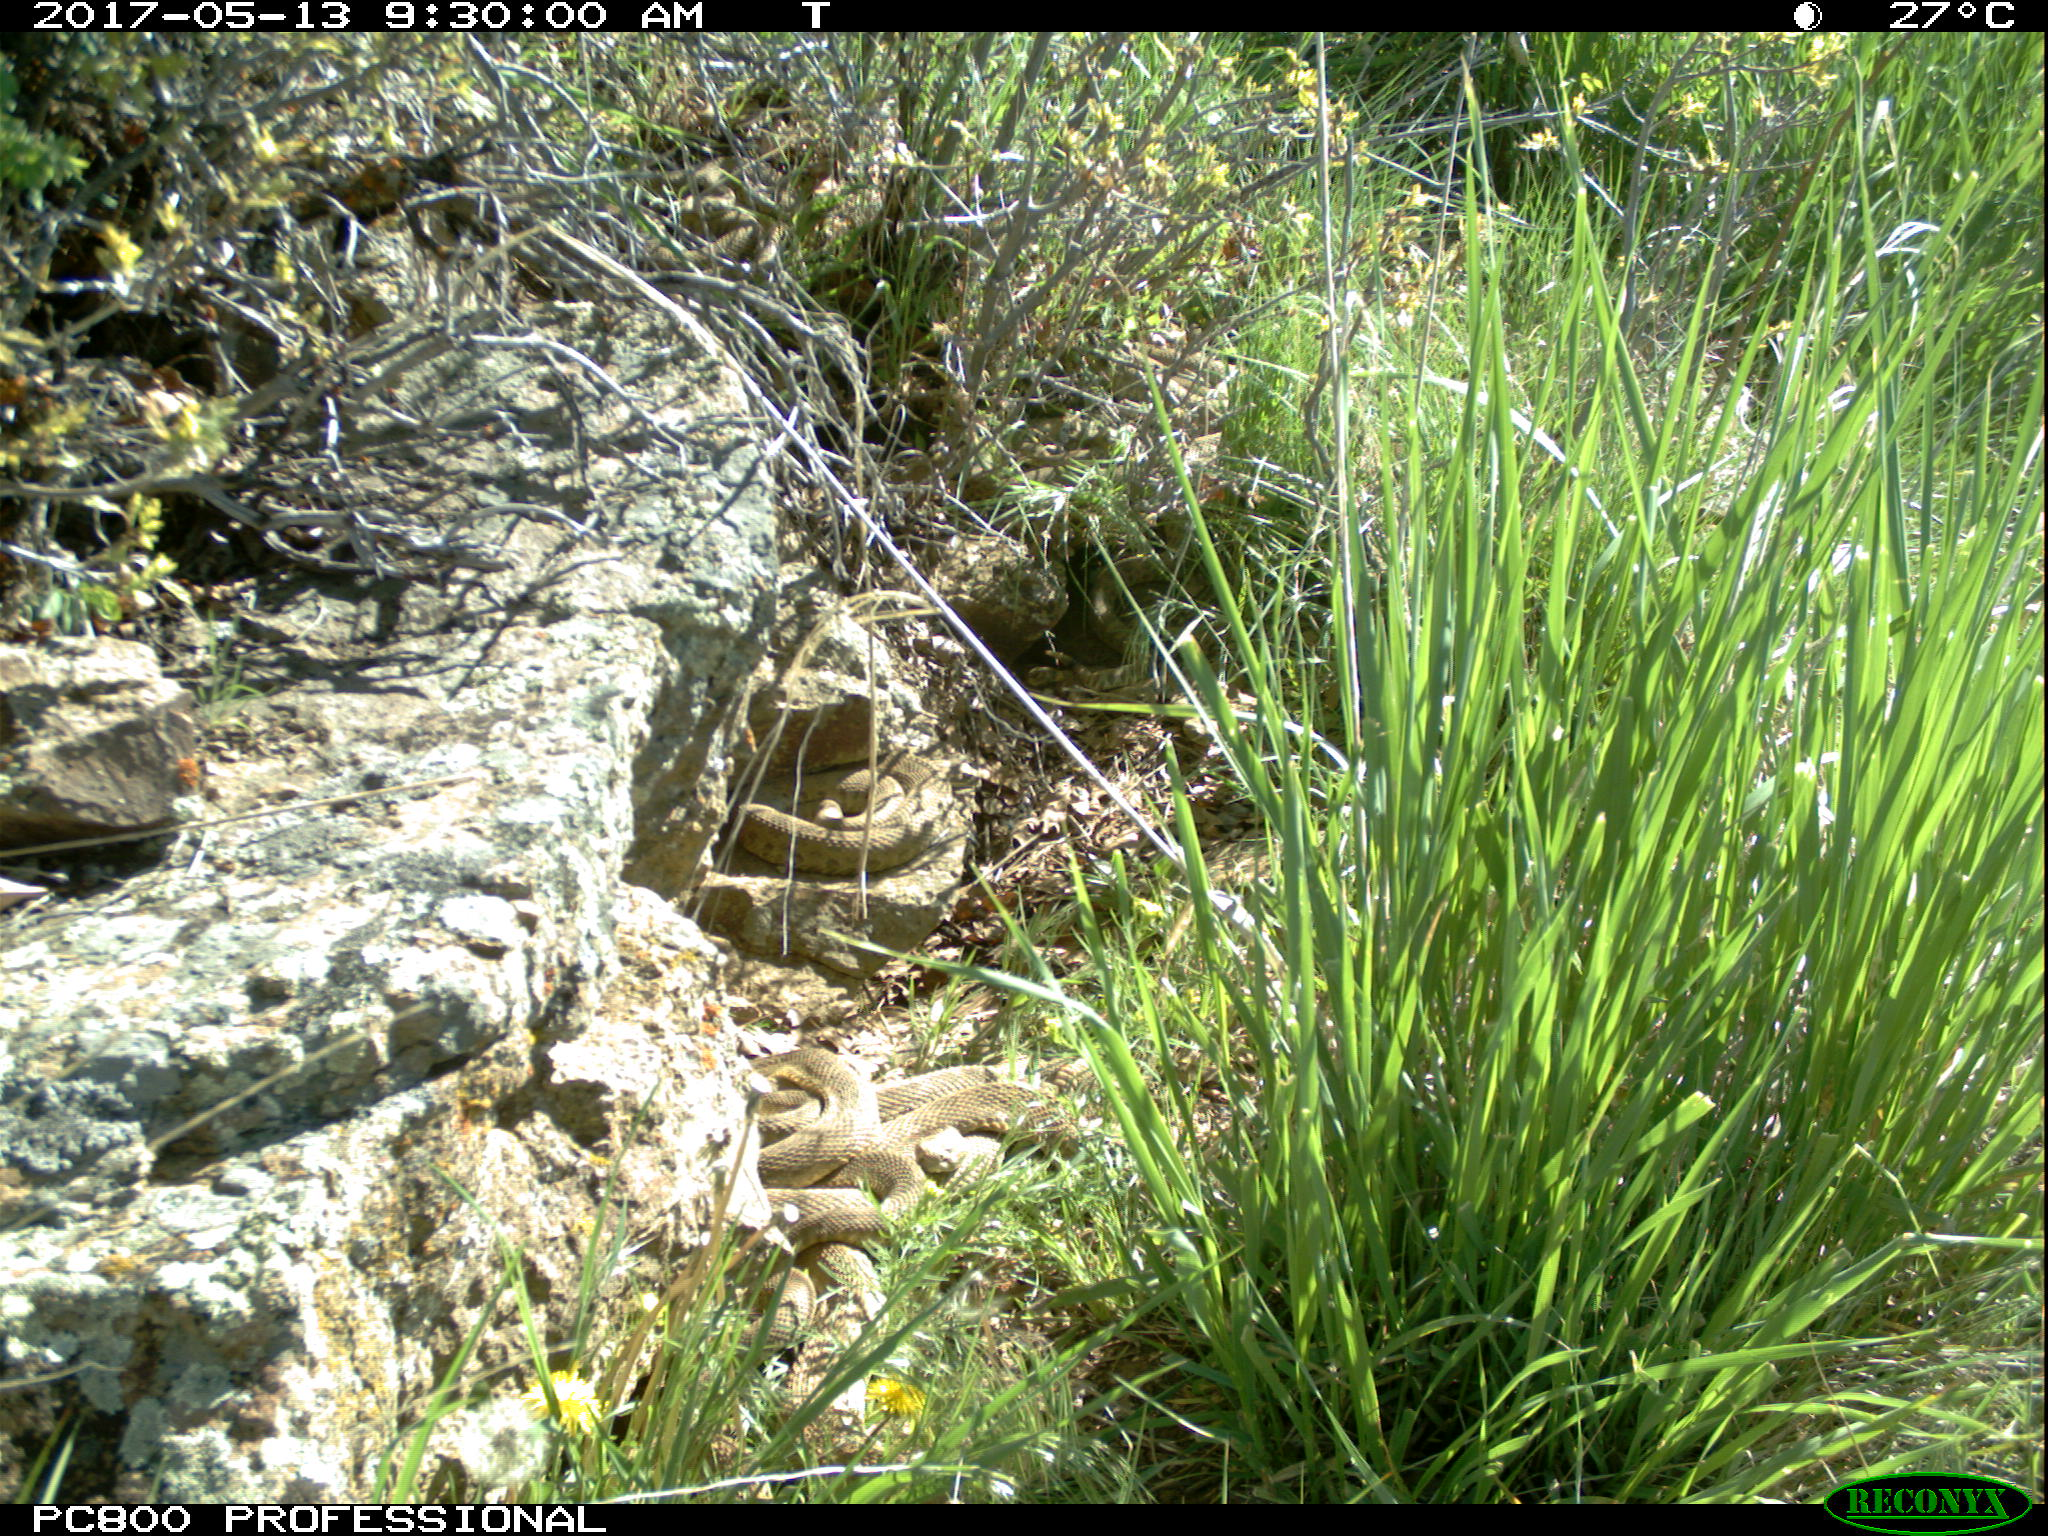snake: (776, 1150, 898, 1409), (755, 744, 976, 858), (869, 1049, 1101, 1149), (745, 1044, 885, 1179), (1084, 549, 1182, 666)
